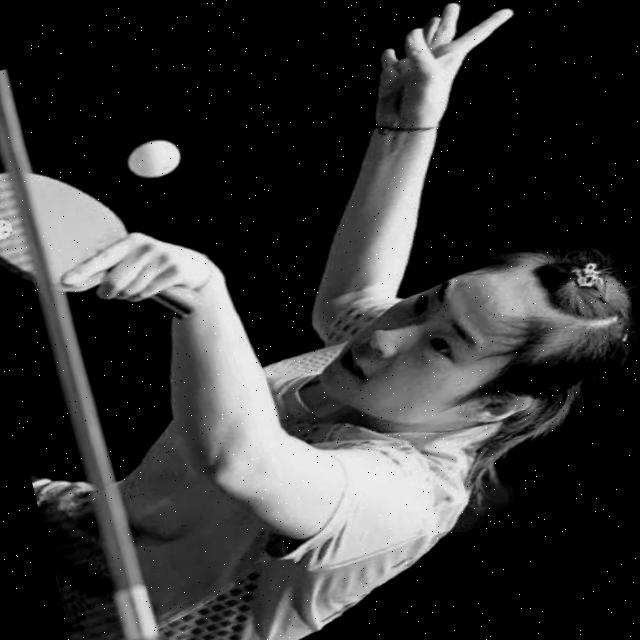ping-pong-ball: (124, 132, 188, 188)
